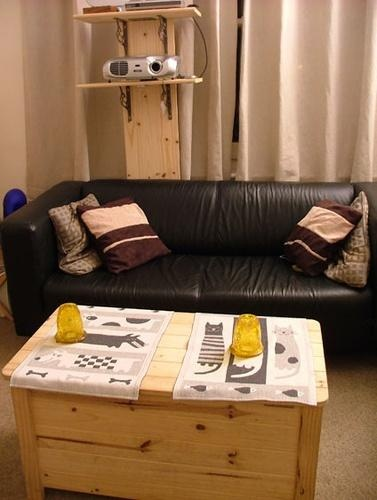sofa: (7, 179, 377, 363)
